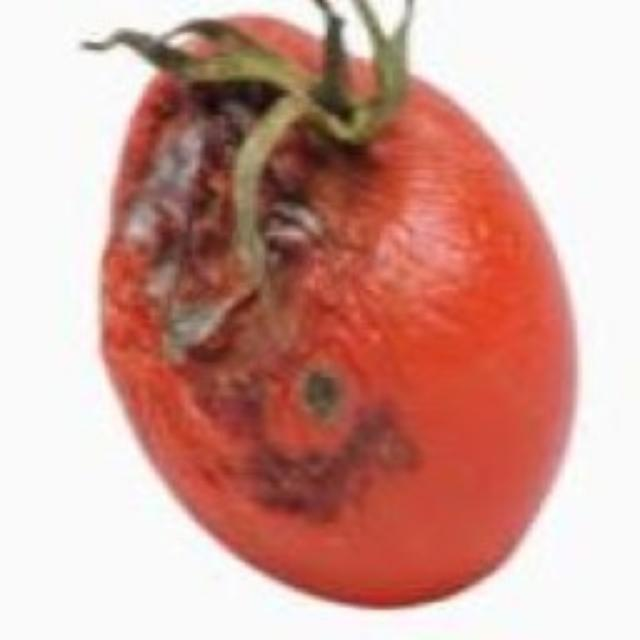defect: (91, 2, 581, 606)
